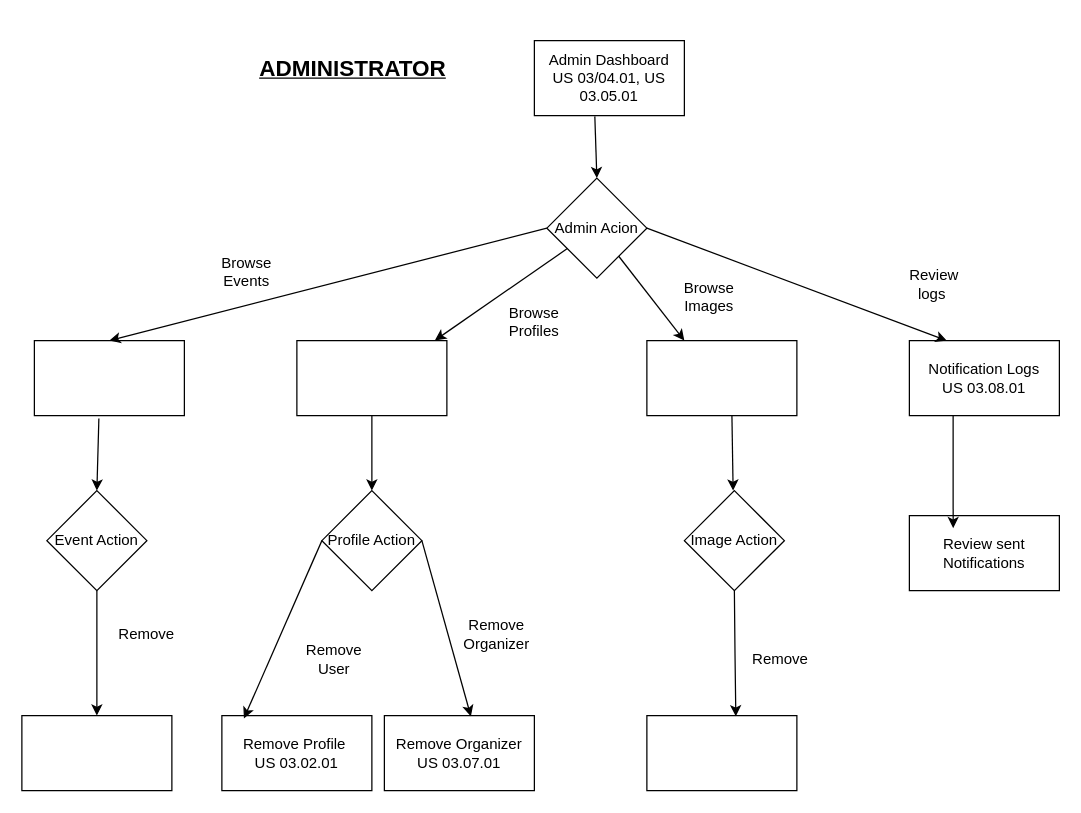
Image size: 1081x813. Some labels were removed from this diagram. The box of each missing label's shape, as (x1, y1, x2, y2) in pixels:
Browse Events US 03.04.01: (33, 339, 184, 416)
Browse Images US 03.06.01: (646, 339, 797, 416)
Browsw Profile US 03.05.01: (296, 339, 447, 416)
Remove Event US 03.01.01: (21, 714, 172, 791)
Remove Image US 03.03.01: (646, 714, 797, 791)
